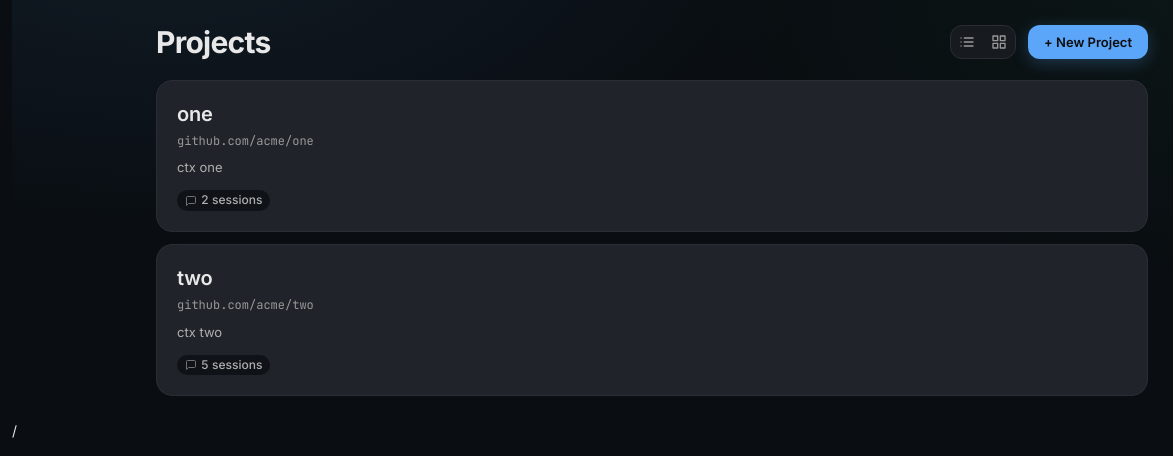
ProjectsPage view toggle › opens a project at its id URL, not its git remote
Click the heading "two" at (195, 279), box [177, 265, 212, 293]
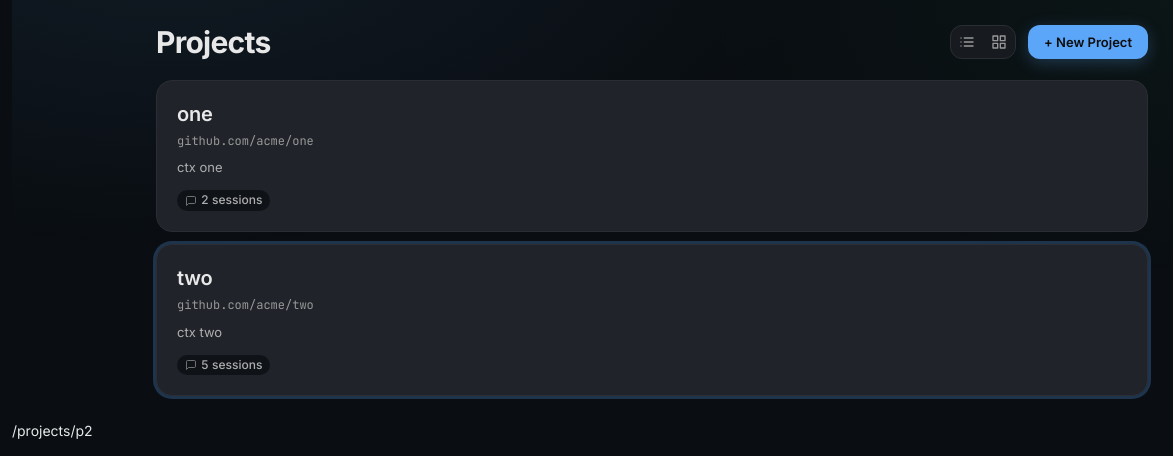
Expected: the text with test id "path" reads "/projects/p2", [12, 422, 93, 439]
